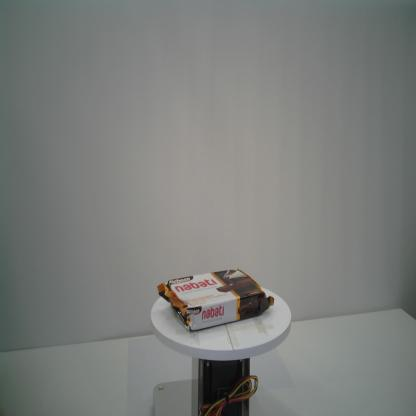Dessert: (156, 266, 276, 337)
